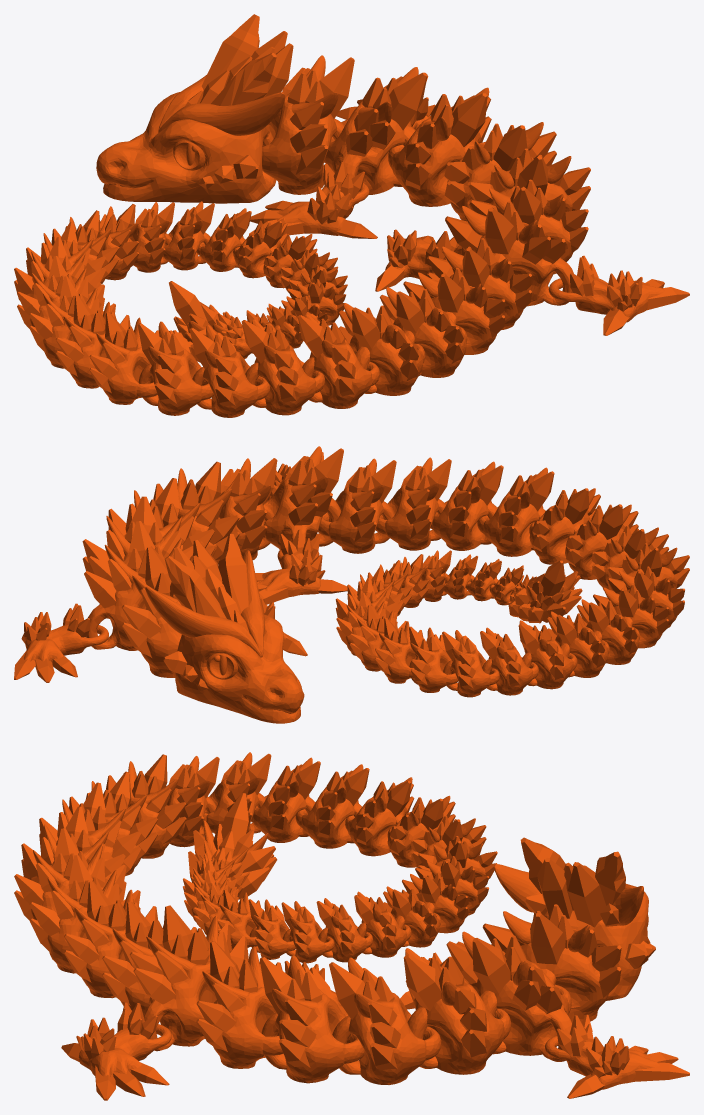
File: drago.glb
3 renders of one model, top to bottom at view 1: azimuth 30°, elevation 25°; view 2: azimuth 150°, elevation 25°; view 3: azimuth 270°, elevation 25°, orthographic. The views are drawn at different scales.
Visible parts, largest first — view 1: Drago; view 2: Drago; view 3: Drago.
Boxes of the visible parts, x1=… form: Drago: x1=14, y1=14, x2=689, y2=417; Drago: x1=14, y1=446, x2=689, y2=723; Drago: x1=14, y1=752, x2=689, y2=1100.
Size of the model in its own units: 2.03 by 0.5004 by 2.
